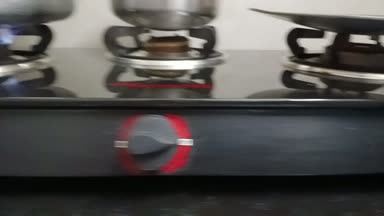flame_gas_off: (113, 8, 218, 174)
